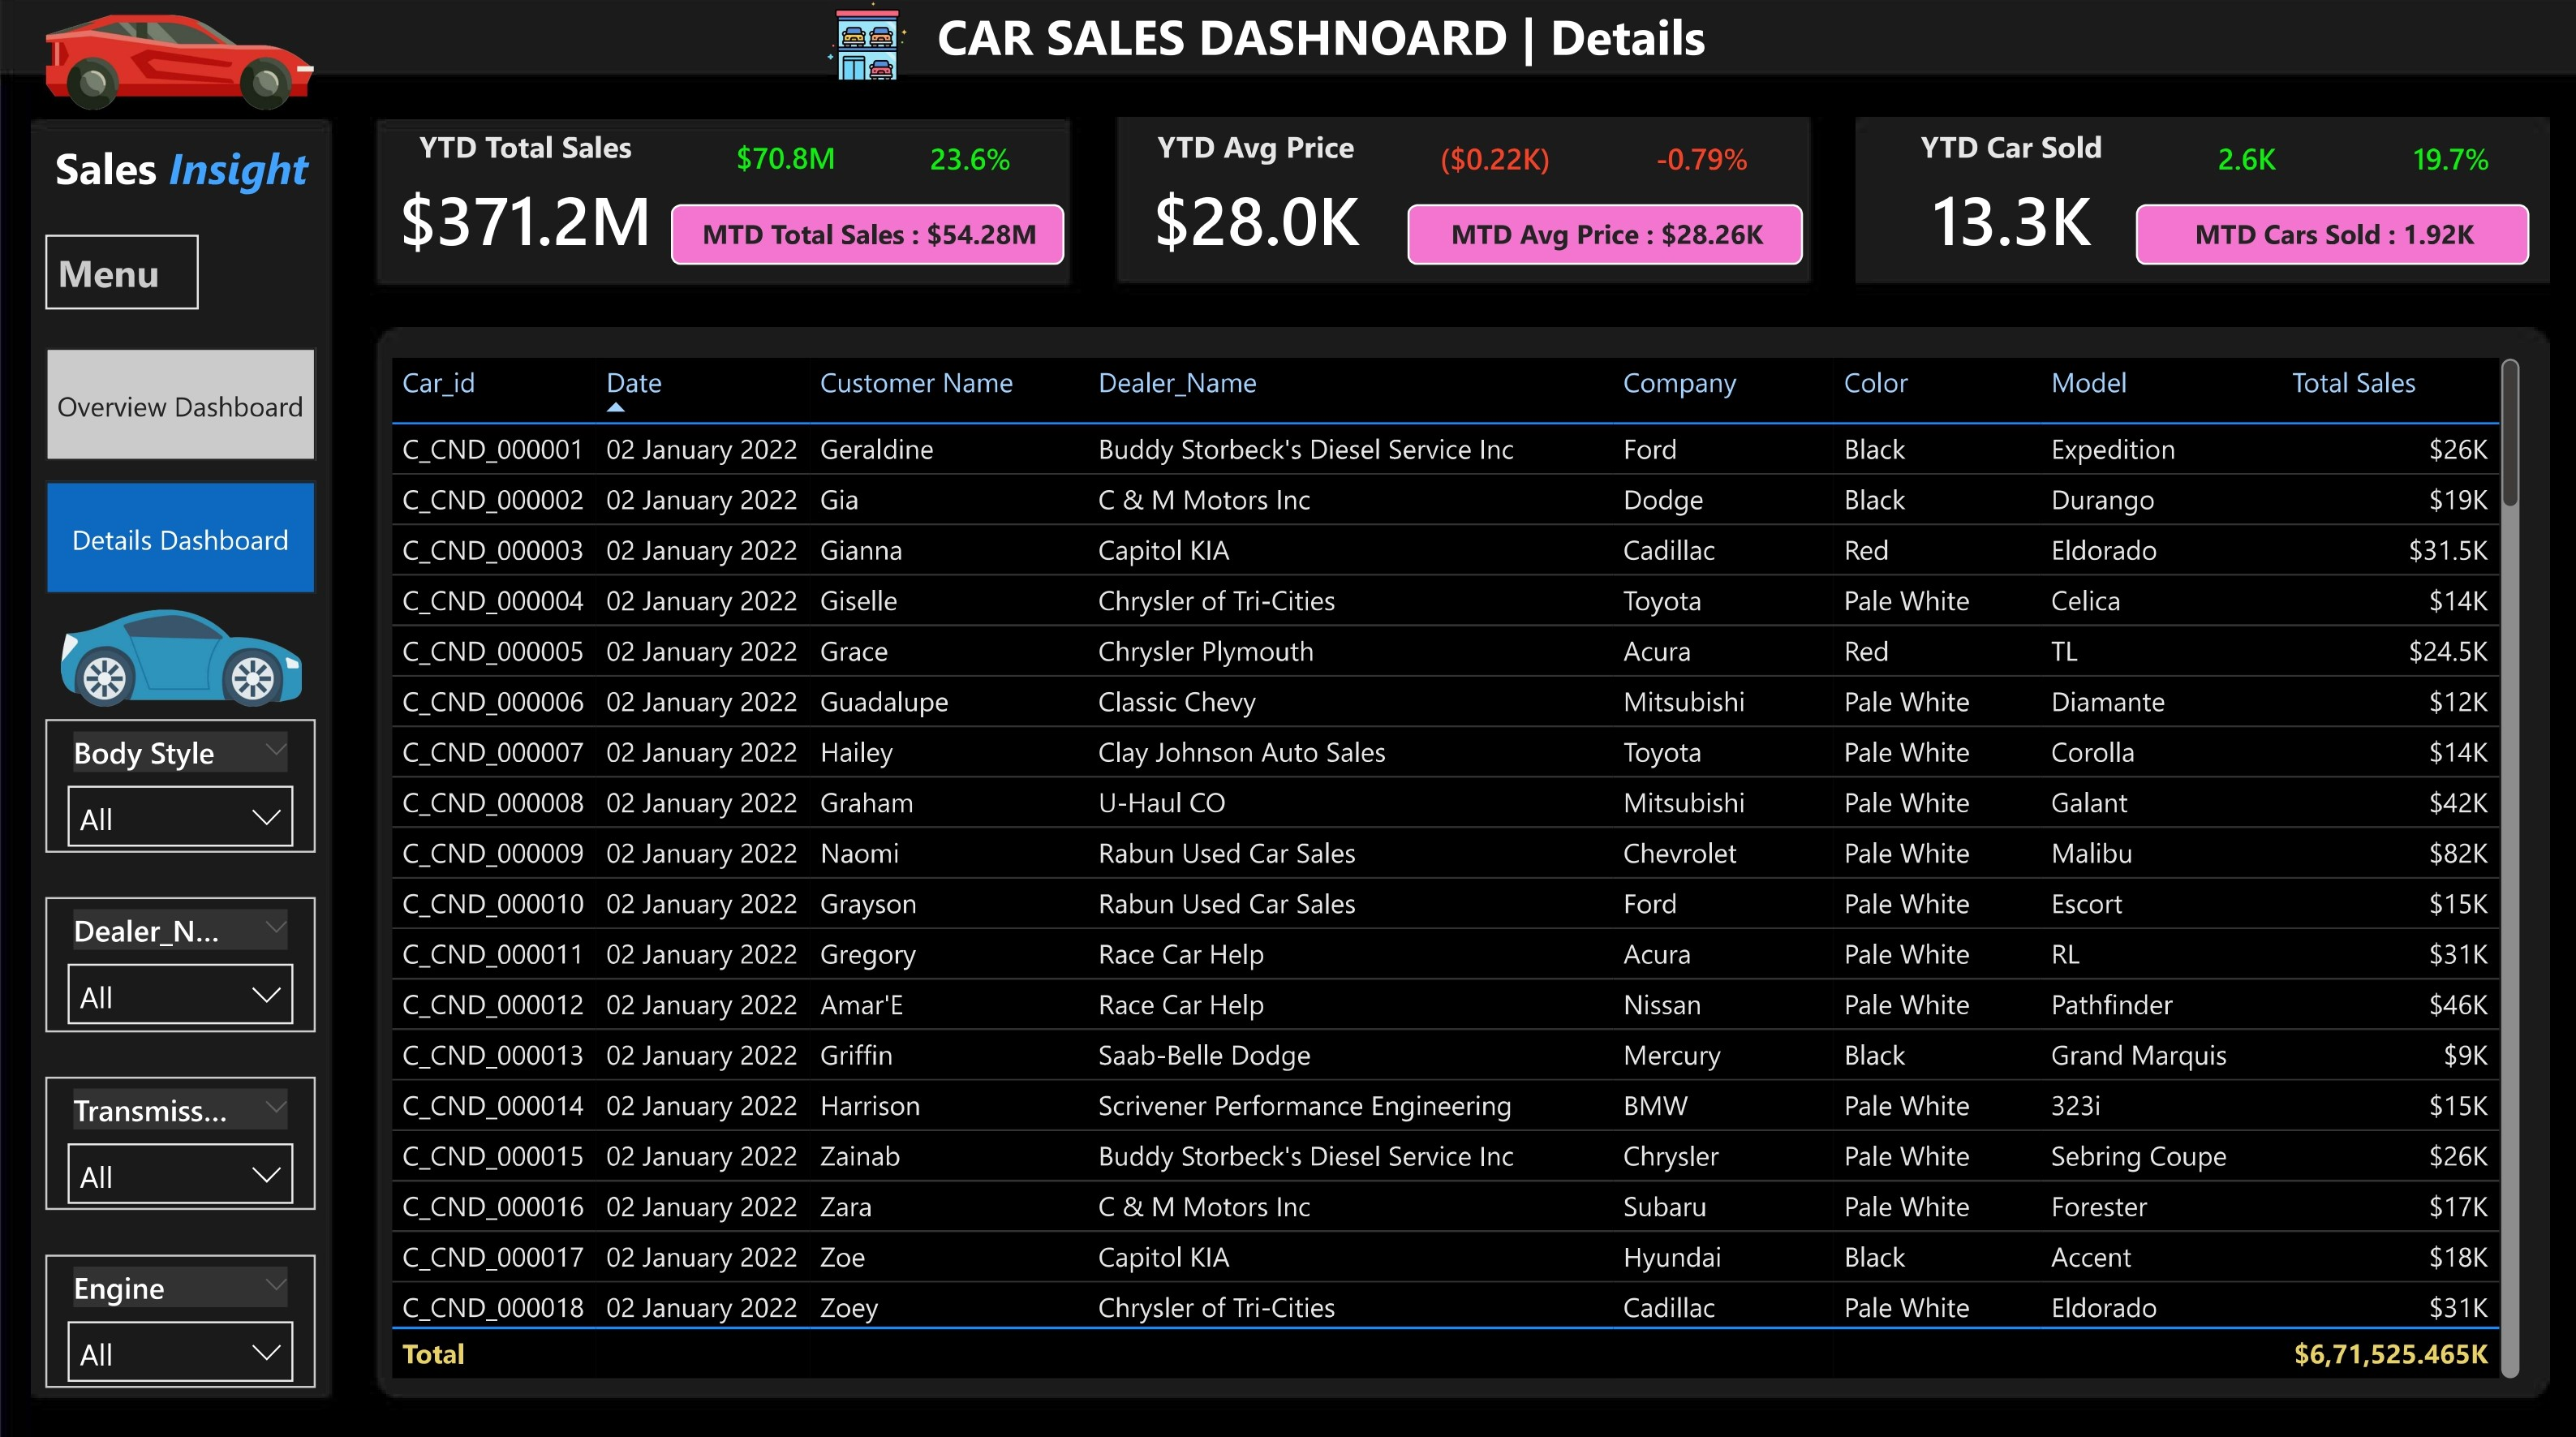

The page's visual inventory and layout, read from the dashboard file:
{"tool":"powerbi","page":{"name":"Details Dashboard","canvas":[1280,720],"ordinal":1},"visuals":[{"type":"card","title":"YTD Total Sales","fields":{"Values":["car_data.YTD Total Sales"]},"box":[188.7,66,144.2,72.8],"z":0},{"type":"card","fields":{"Values":["car_data.Sales Difference"]},"box":[346.3,66,87.6,36.4],"z":1000},{"type":"card","fields":{"Values":["car_data.YoY Sales Growth"]},"box":[442.6,66.3,77.2,36.2],"z":2000},{"type":"card","fields":{"Values":["car_data.MTD KPI"]},"box":[332.9,105.1,195.4,29.6],"z":3000},{"type":"card","title":"YTD Avg Price","fields":{"Values":["car_data.YTD Avg Price"]},"box":[551.2,66,144.2,72.8],"z":4000},{"type":"card","fields":{"Values":["car_data.Avg Price Diff"]},"box":[698.3,66.3,86.8,36.2],"z":5000},{"type":"card","fields":{"Values":["car_data.YoY Avg Price Growth"]},"box":[802,66.3,84.4,36.2],"z":6000},{"type":"card","fields":{"Values":["car_data.MTD Avg Price KPI"]},"box":[698.3,104.9,195.4,30.2],"z":7000},{"type":"card","title":"YTD Car Sold","fields":{"Values":["car_data.YTD Cars Sold"]},"box":[925,66.3,144.7,72.4],"z":8000},{"type":"card","fields":{"Values":["car_data.Cars Sold Diff"]},"box":[1069.7,66.3,88,36.2],"z":9000},{"type":"card","fields":{"Values":["car_data.YoY Cars Sold Growth"]},"box":[1177.1,66.3,77.2,36.2],"z":10000},{"type":"card","fields":{"Values":["car_data.MTD Cars Sold KPI"]},"box":[1058.9,104.9,195.4,30.2],"z":11000},{"type":"textbox","box":[460.4,0,431.6,49.1],"z":12000},{"type":"slicer","fields":{"Values":["car_data.Body Style"]},"box":[23.4,360.1,133.2,65.4],"z":13000},{"type":"slicer","fields":{"Values":["car_data.Dealer_Name"]},"box":[23.4,448.1,133.2,66.6],"z":14000},{"type":"slicer","fields":{"Values":["car_data.Transmission"]},"box":[23.4,537.3,133.2,65.4],"z":15000},{"type":"slicer","fields":{"Values":["car_data.Engine"]},"box":[23.4,625.3,133.2,65.4],"z":16000},{"type":"tableEx","fields":{"Values":["car_data.Car_id","car_data.Date","car_data.Customer Name","car_data.Dealer_Name","car_data.Company","car_data.Color","car_data.Model","car_data.Total Sales"]},"box":[188.7,176.4,1065.6,514.3],"z":17000},{"type":"textbox","box":[13.6,66.6,152.9,45.6],"z":18000},{"type":"textbox","box":[23.4,119.6,75.2,37],"z":19000},{"type":"pageNavigator","box":[23.4,176.4,133.2,122.1],"z":19001},{"type":"image","box":[403.3,0,54.3,49.3],"z":19002},{"type":"image","box":[17.3,0,144.3,66.6],"z":19003},{"type":"image","box":[23.4,298.5,133.2,61.7],"z":19004}]}

Visuals, with their boxes in screenshot pixels (x1, y1, x2, y2), scaled from the page's 1280x720 canvas onto the 2576x1437 screenshot:
"YTD Total Sales" card: crop(380, 131, 670, 277)
card - car_data.Sales Difference: crop(697, 131, 873, 204)
card - car_data.YoY Sales Growth: crop(891, 132, 1046, 204)
card - car_data.MTD KPI: crop(670, 210, 1063, 269)
"YTD Avg Price" card: crop(1109, 131, 1400, 277)
card - car_data.Avg Price Diff: crop(1405, 132, 1580, 204)
card - car_data.YoY Avg Price Growth: crop(1614, 132, 1784, 204)
card - car_data.MTD Avg Price KPI: crop(1405, 209, 1799, 269)
"YTD Car Sold" card: crop(1861, 132, 2152, 277)
card - car_data.Cars Sold Diff: crop(2152, 132, 2330, 204)
card - car_data.YoY Cars Sold Growth: crop(2369, 132, 2524, 204)
card - car_data.MTD Cars Sold KPI: crop(2131, 209, 2524, 269)
textbox: crop(927, 0, 1795, 98)
slicer - car_data.Body Style: crop(47, 719, 315, 850)
slicer - car_data.Dealer_Name: crop(47, 894, 315, 1027)
slicer - car_data.Transmission: crop(47, 1073, 315, 1203)
slicer - car_data.Engine: crop(47, 1248, 315, 1379)
tableEx - car_data.Car_id x car_data.Date: crop(380, 352, 2524, 1379)
textbox: crop(28, 133, 335, 224)
textbox: crop(47, 239, 199, 312)
pageNavigator: crop(47, 352, 315, 596)
image: crop(811, 0, 921, 98)
image: crop(35, 0, 325, 133)
image: crop(47, 596, 315, 719)
